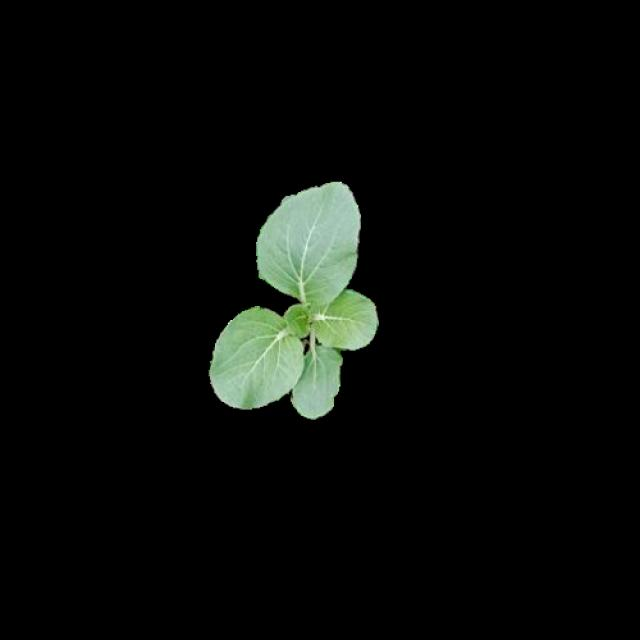healthy: (210, 179, 378, 417)
not-mature: (210, 182, 378, 420)
